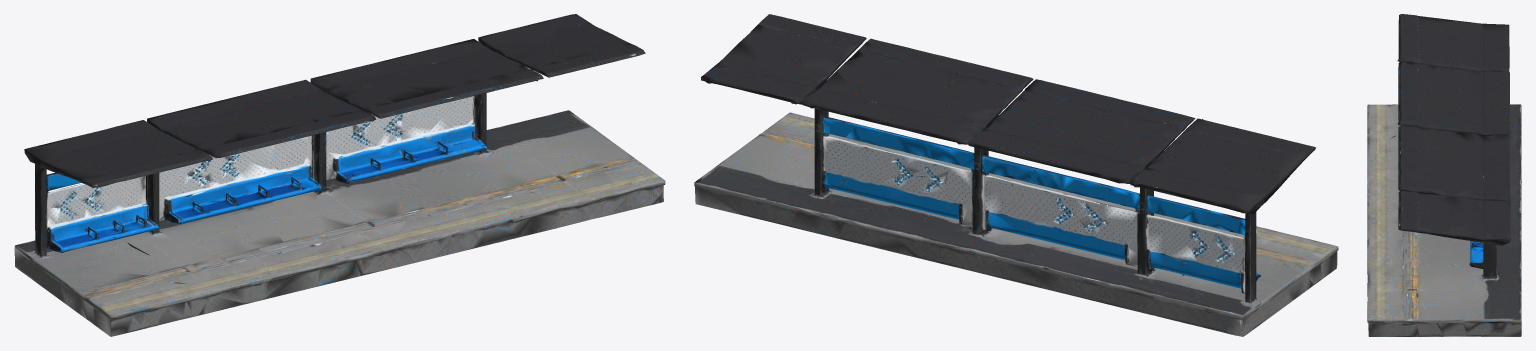
Rendered from Plataforma-Anden-ARG-1-opt.glb.
3 views of the same model, side by side, from view 1: azimuth 30°, elevation 25°; view 2: azimuth 150°, elevation 25°; view 3: azimuth 270°, elevation 25° (orthographic). The views are drawn at different scales.
Size of the model in its own units: 1.9 by 0.4487 by 0.5756.
1 material, 1 textured.
